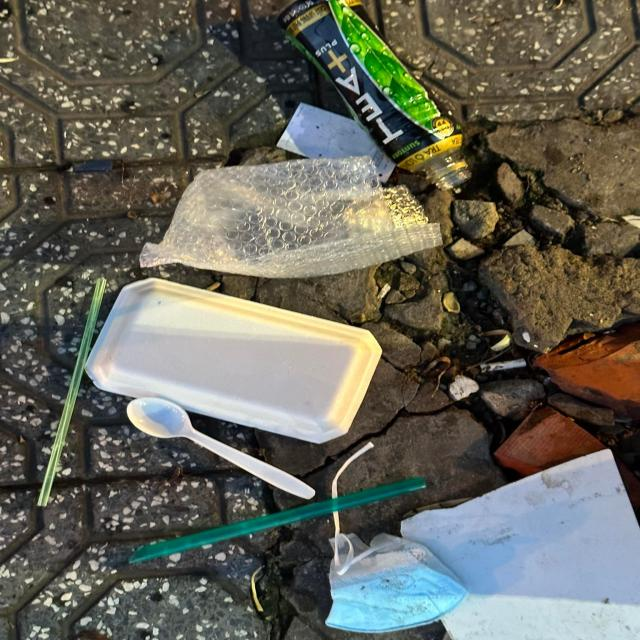bag: (138, 155, 446, 278)
bottle: (277, 0, 471, 190)
drinking straw: (129, 475, 426, 564), (37, 278, 107, 508)
foam box: (84, 278, 384, 443)
mask: (322, 530, 469, 634)
paper: (275, 101, 397, 185)
plastic utensil: (125, 397, 316, 500)
